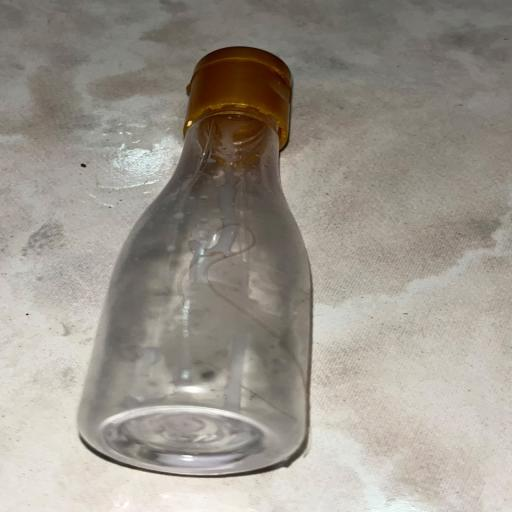PET: (35, 21, 395, 487)
